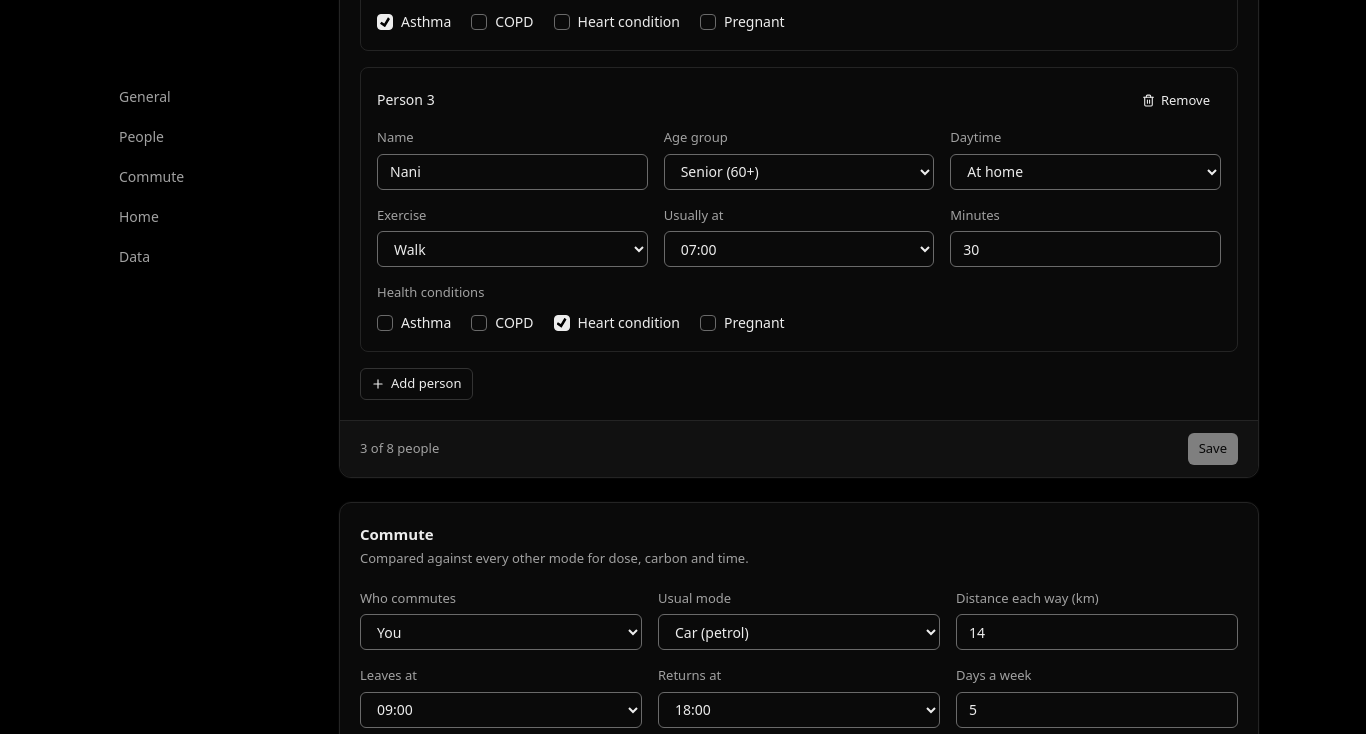
Test: Settings page › adds a person up to the limit
This screenshot has width=1366, height=734.
(page scrolled)
Click the button "Add person" at (416,384), box [360,368,472,400]
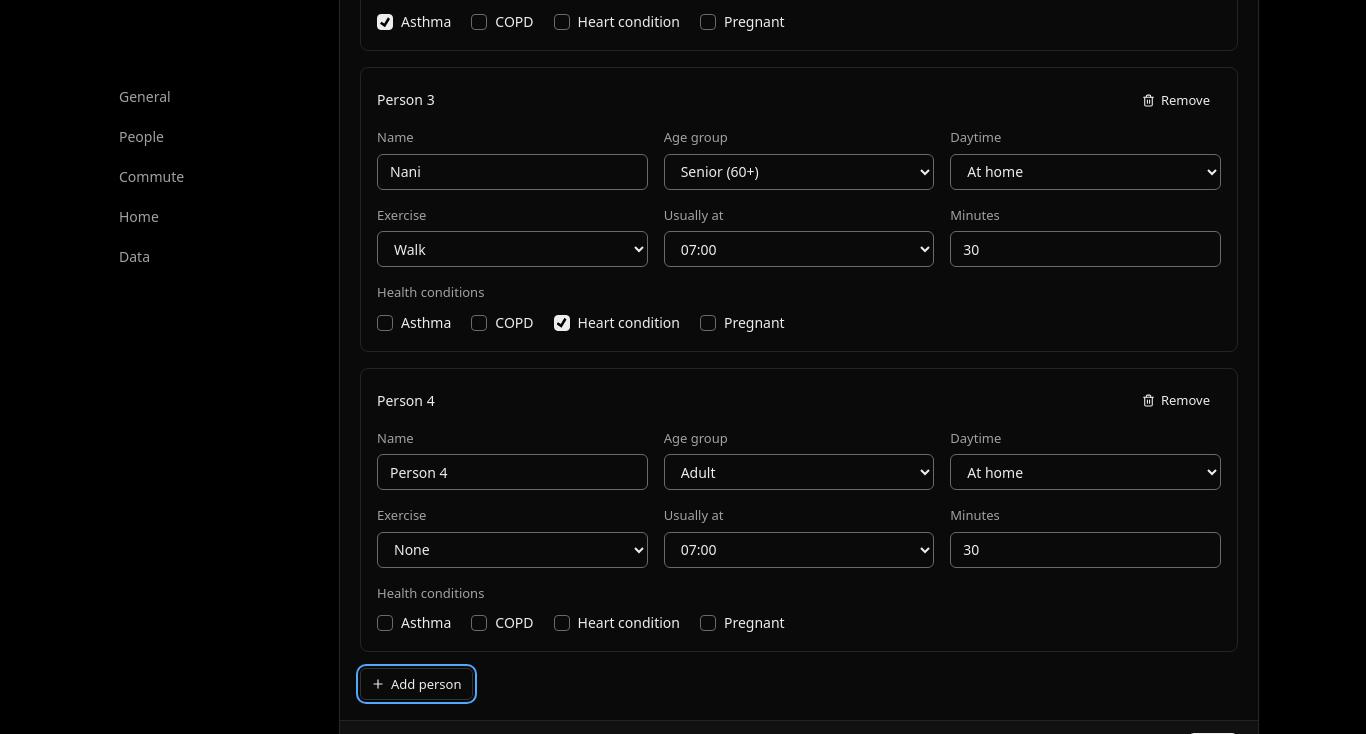
Expected: the text "Person 4" is shown, [377,391,435,411]
